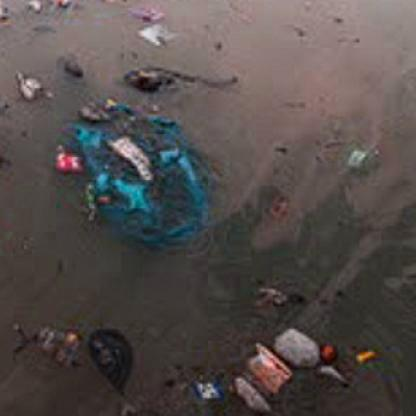Metal: (50, 140, 80, 176)
Plastic: (248, 342, 288, 389), (235, 375, 272, 416), (340, 144, 372, 171)
Trash: (62, 99, 205, 242), (268, 327, 316, 368)
